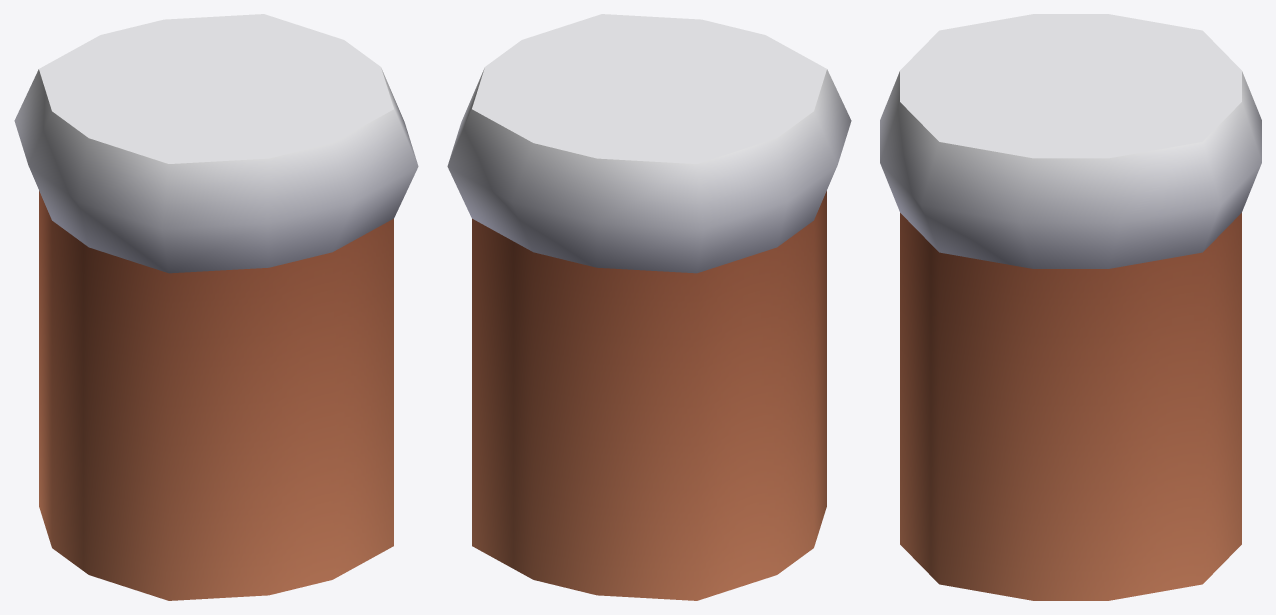
File: block-snow-narrow.glb
3 views of the same model, side by side, from view 1: azimuth 30°, elevation 25°; view 2: azimuth 150°, elevation 25°; view 3: azimuth 270°, elevation 25° (orthographic).
Parts seen in each view (by area): view 1: block-snow-narrow; view 2: block-snow-narrow; view 3: block-snow-narrow.
Part boxes in pixels (box(x1,y1,x2,y2)): block-snow-narrow: box(14, 14, 418, 600); block-snow-narrow: box(447, 14, 851, 600); block-snow-narrow: box(880, 14, 1261, 600).
Size of the model in its own units: 0.7821 by 1 by 0.7821.
1 material, 1 textured.
